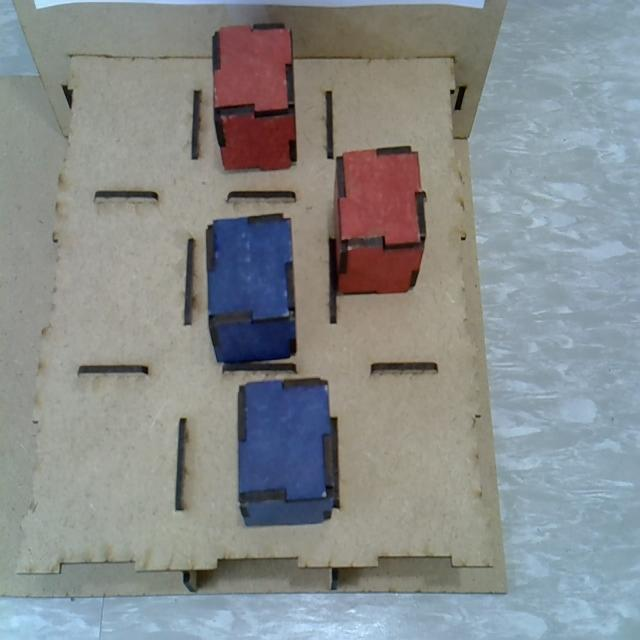blue_box: (237, 377, 332, 526), (205, 215, 297, 362)
red_box: (333, 146, 427, 297), (211, 20, 297, 170)
